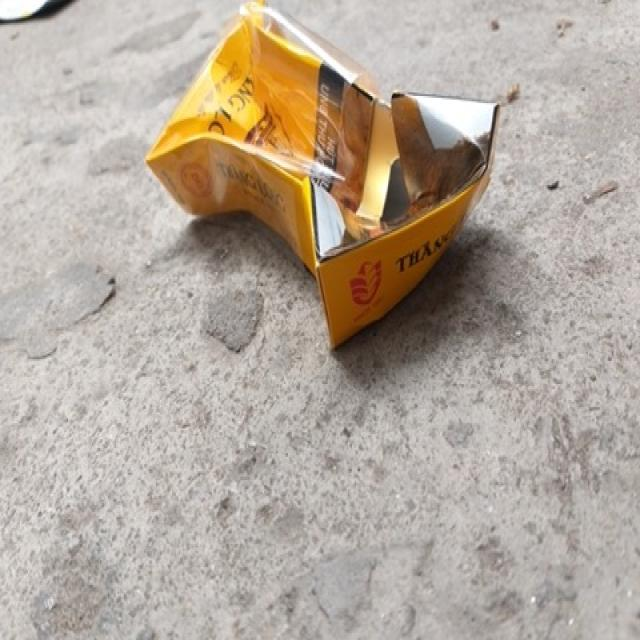PaperCardboard: (142, 8, 511, 351)
